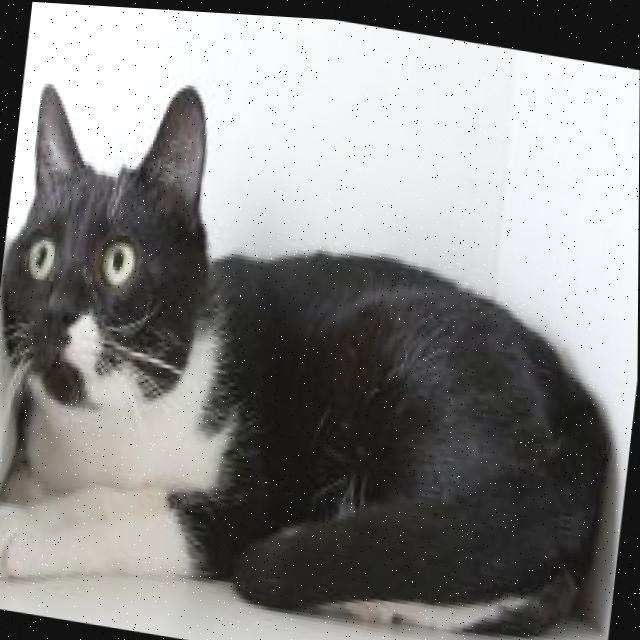Tuxedo: (0, 53, 640, 640)
